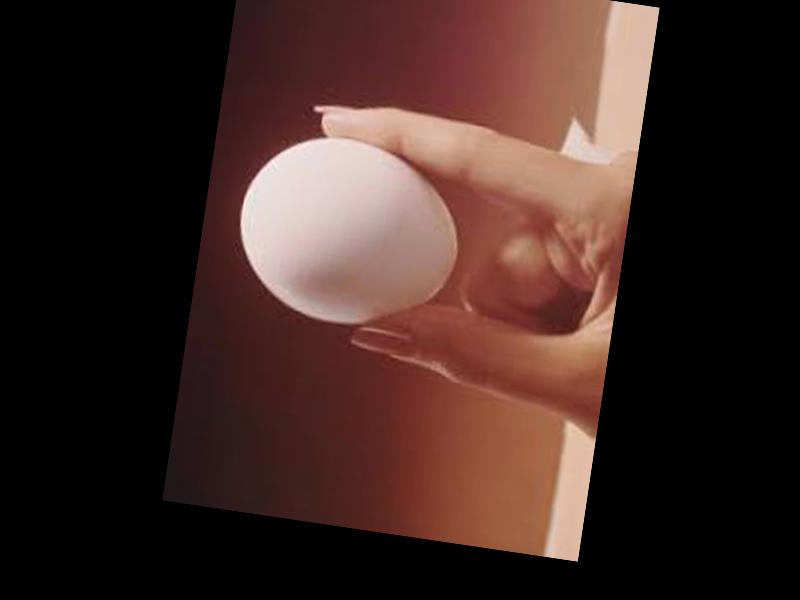Eggs: (226, 122, 472, 339)
